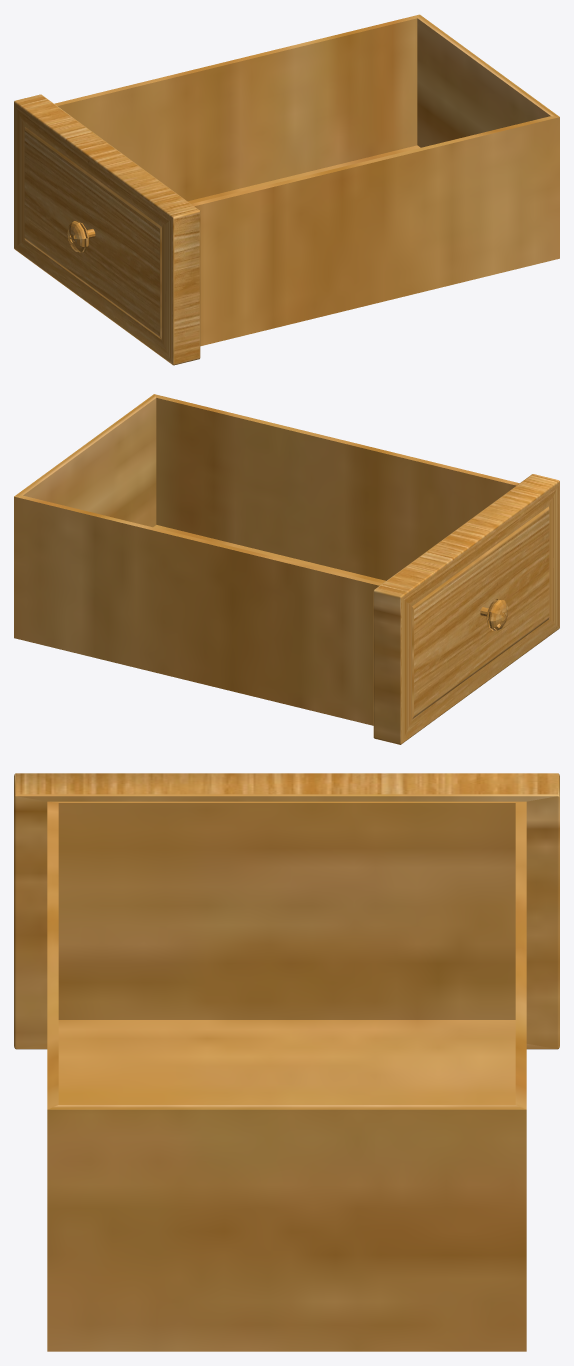
Rendered from cajon1.1.obj.
3 views of the same model, one above another, from view 1: azimuth 30°, elevation 25°; view 2: azimuth 150°, elevation 25°; view 3: azimuth 270°, elevation 25° (orthographic). The views are drawn at different scales.
Parts seen in each view (by area): view 1: cajon_1.1_DRAWEROBJ.007; view 2: cajon_1.1_DRAWEROBJ.007; view 3: cajon_1.1_DRAWEROBJ.007.
Part boxes in pixels (left/top/right/bottom): cajon_1.1_DRAWEROBJ.007: left=14, top=14, right=559, bottom=365; cajon_1.1_DRAWEROBJ.007: left=14, top=394, right=559, bottom=744; cajon_1.1_DRAWEROBJ.007: left=14, top=773, right=559, bottom=1351.
Bounding box in the file's own units: 14.68 × 4.98 × 9.69.
Materials: 1 (1 with a texture image).
